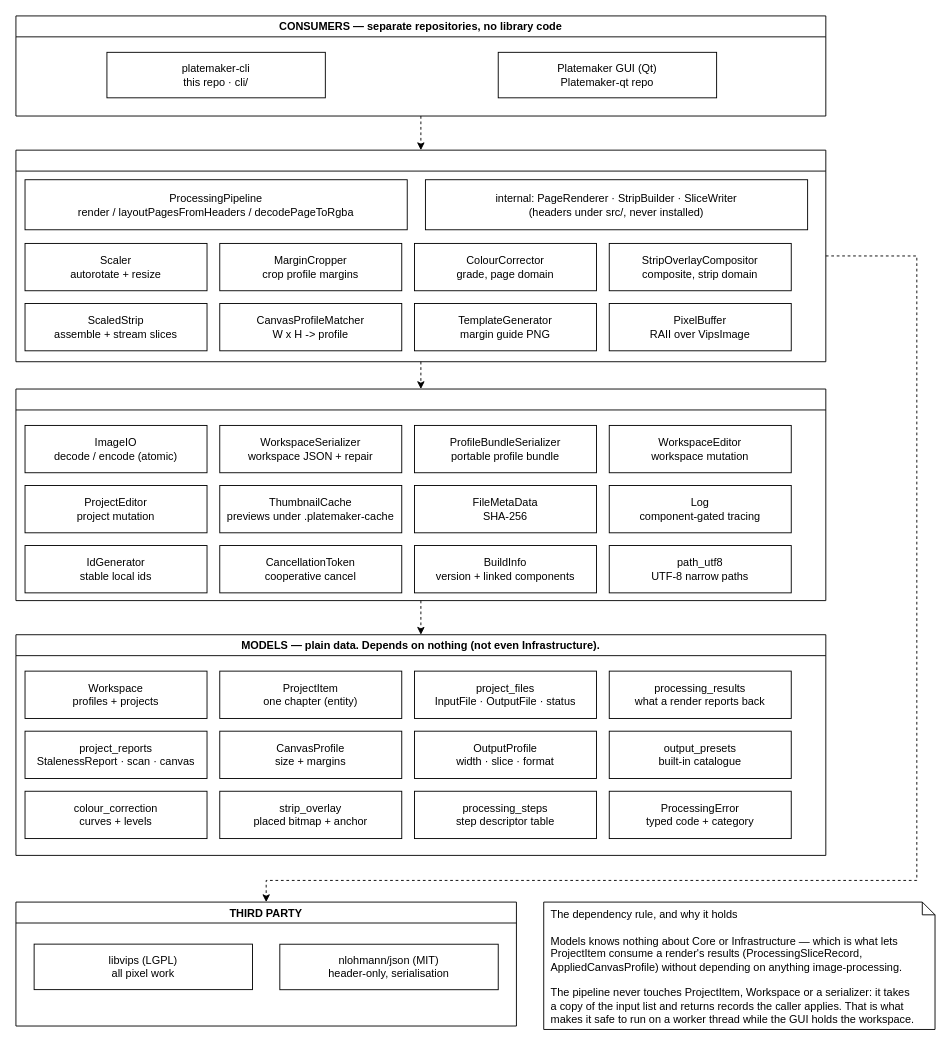
Some shapes in this 951 by 1046 pixel diagram are drawn without their labels. Here are the shapes that lost their labels. From the top down, the centre of each, then its label:
the point at 420,255: CORE — image processing. Depends on Models and Infrastructure.
the point at 420,494: INFRASTRUCTURE — I/O, persistence, process concerns. Depends on Models.
